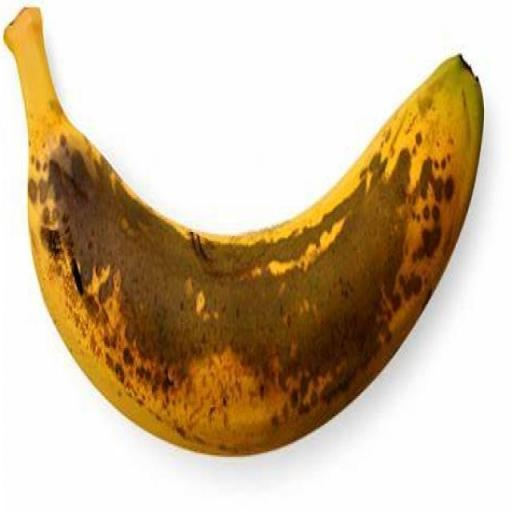fruit: (4, 9, 482, 453)
